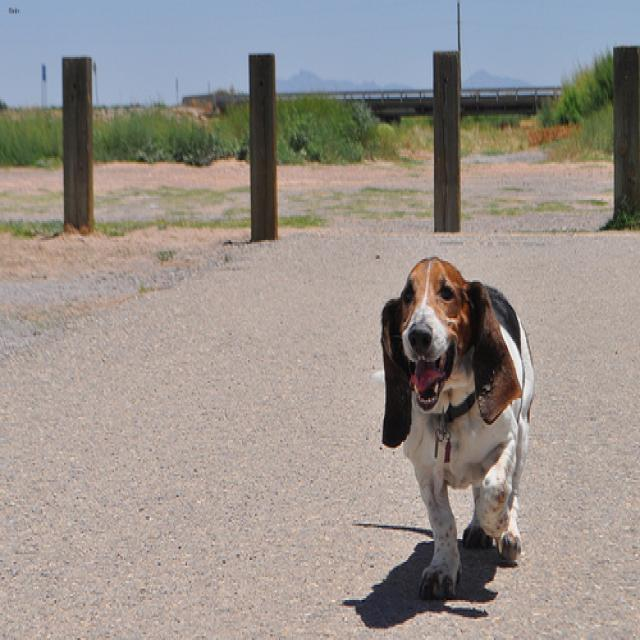dog-basset_hound: (371, 246, 541, 613)
